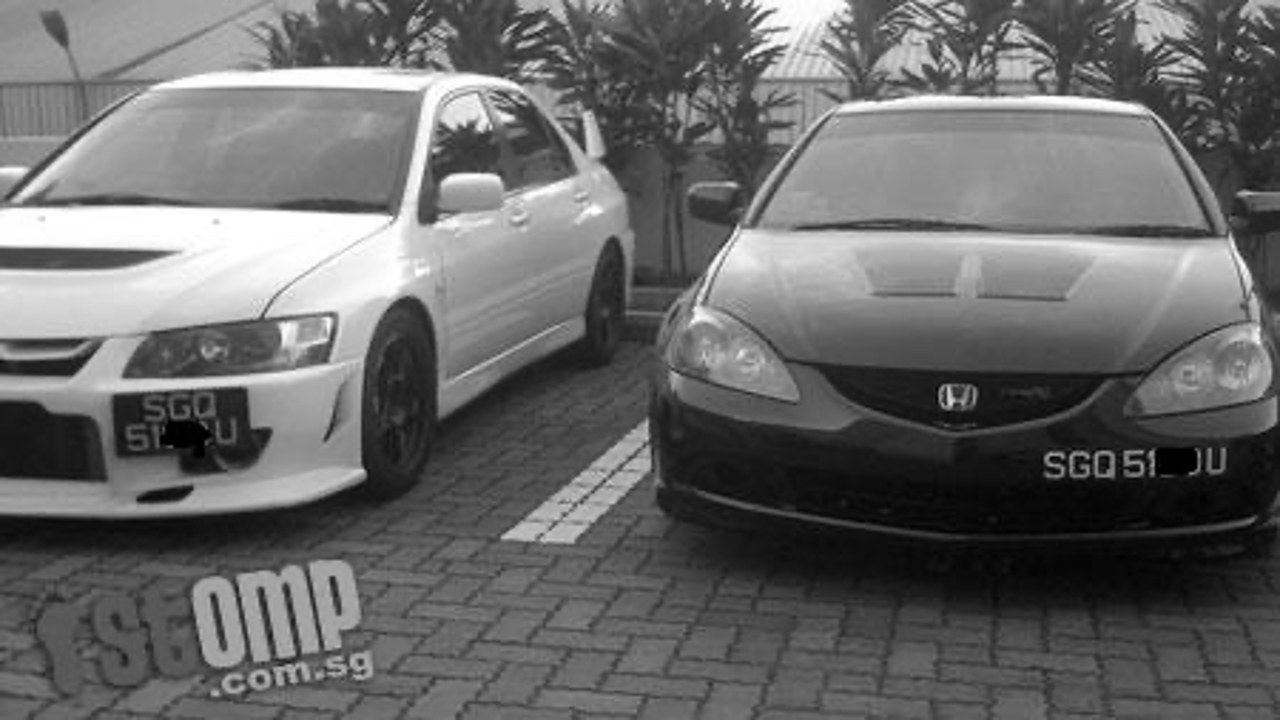license: (1033, 431, 1244, 493), (104, 387, 260, 459)
